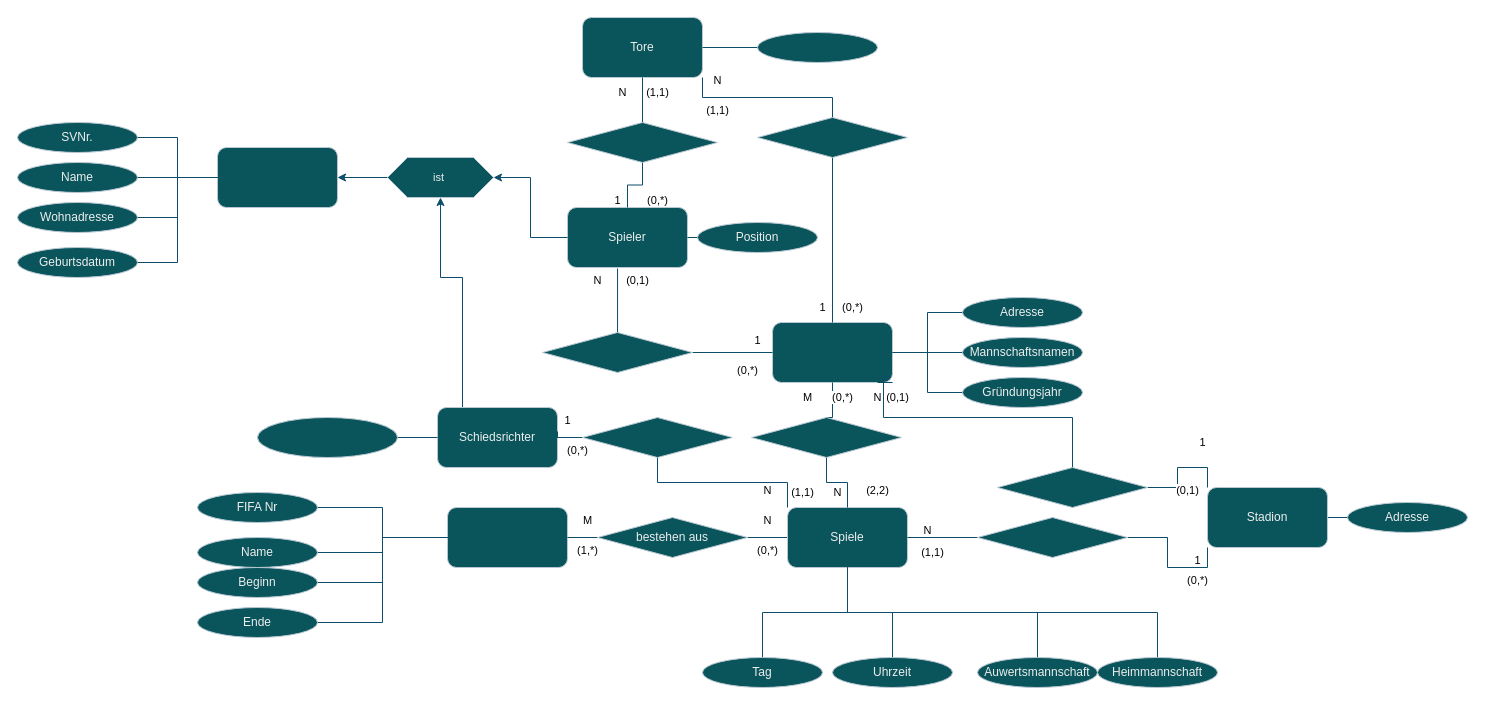
Some shapes in this 1485 by 705 pixel diagram are drawn without their labels. Each missing label, with the centre of its shape:
"Anzahl" goes at (817,47).
"bestreitet" goes at (826,437).
"bilden" goes at (617,352).
"Datum Schiedsrichterprüfung" goes at (327,437).
"gehört zu" goes at (1072,487).
"Mannschaft" goes at (832,352).
"Personen" goes at (277,177).
"pfeifen" goes at (657,437).
"schießt" goes at (642,142).
"Turnier" goes at (507,537).
"werden ausgetragen in" goes at (1052,537).
"werden zugewiesen" goes at (832,137).
